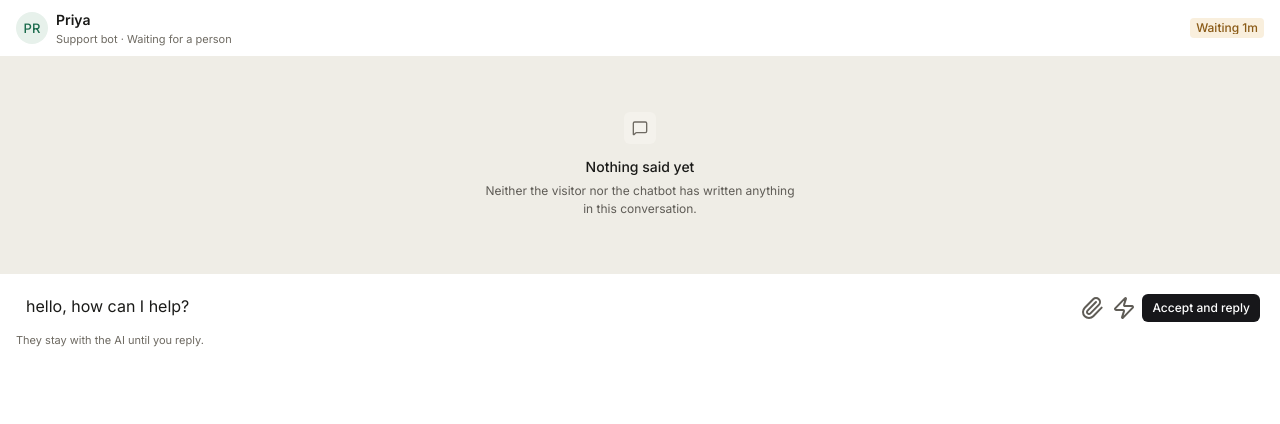
ChatPane — taking a waiting visitor › keeps the draft when a colleague got there first
What coordinates should you click on to do the following:
click the button "Accept and reply"
I would click on:
 (1201, 308)
Its box is [1142,294,1260,322].
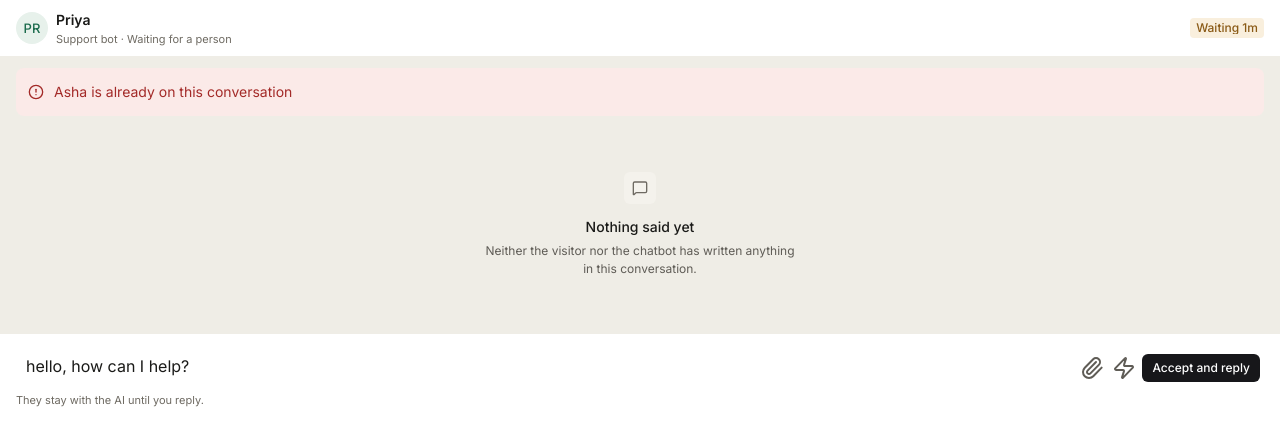
Expected: the text "Asha is already on this conversation" is shown, [54,83,292,100]
